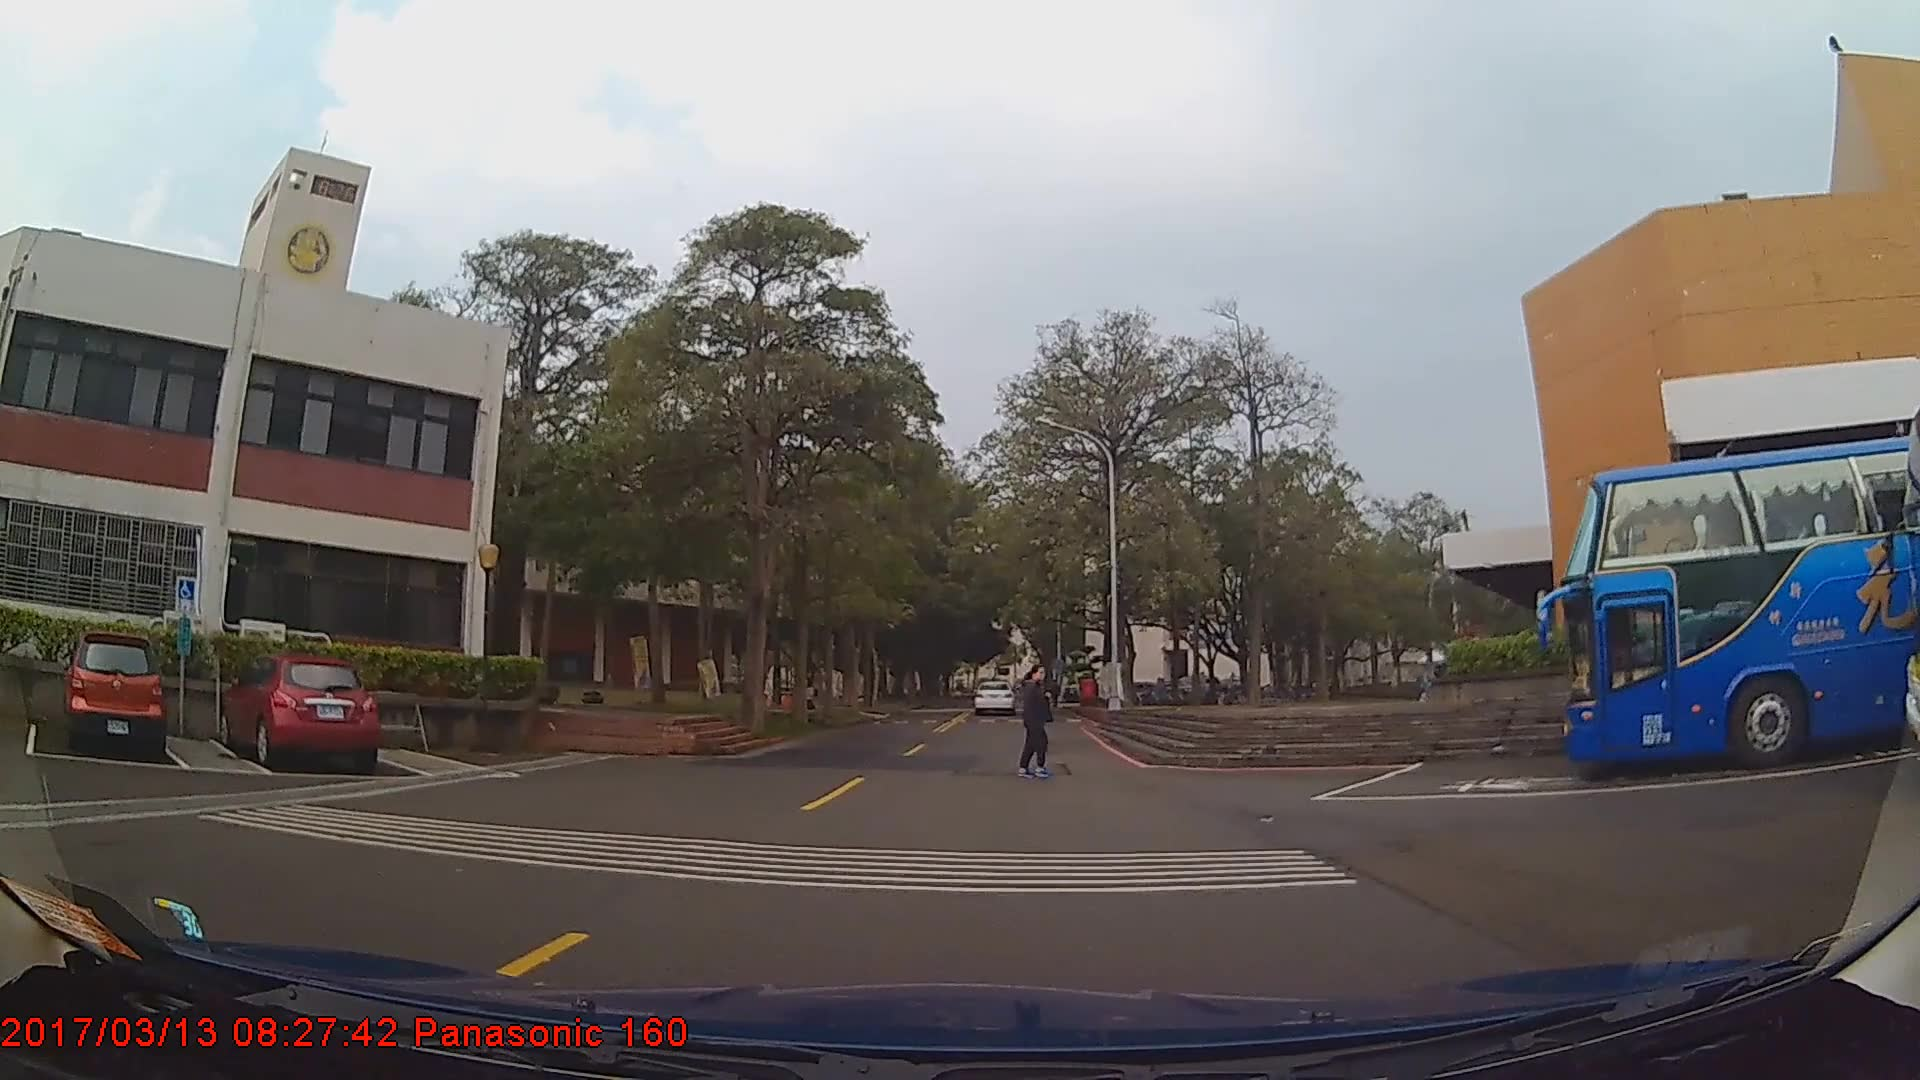pedestrian: (1004, 661, 1068, 782)
vehicle: (1564, 426, 1920, 776), (214, 655, 377, 772), (62, 632, 165, 753), (974, 675, 1014, 713)
